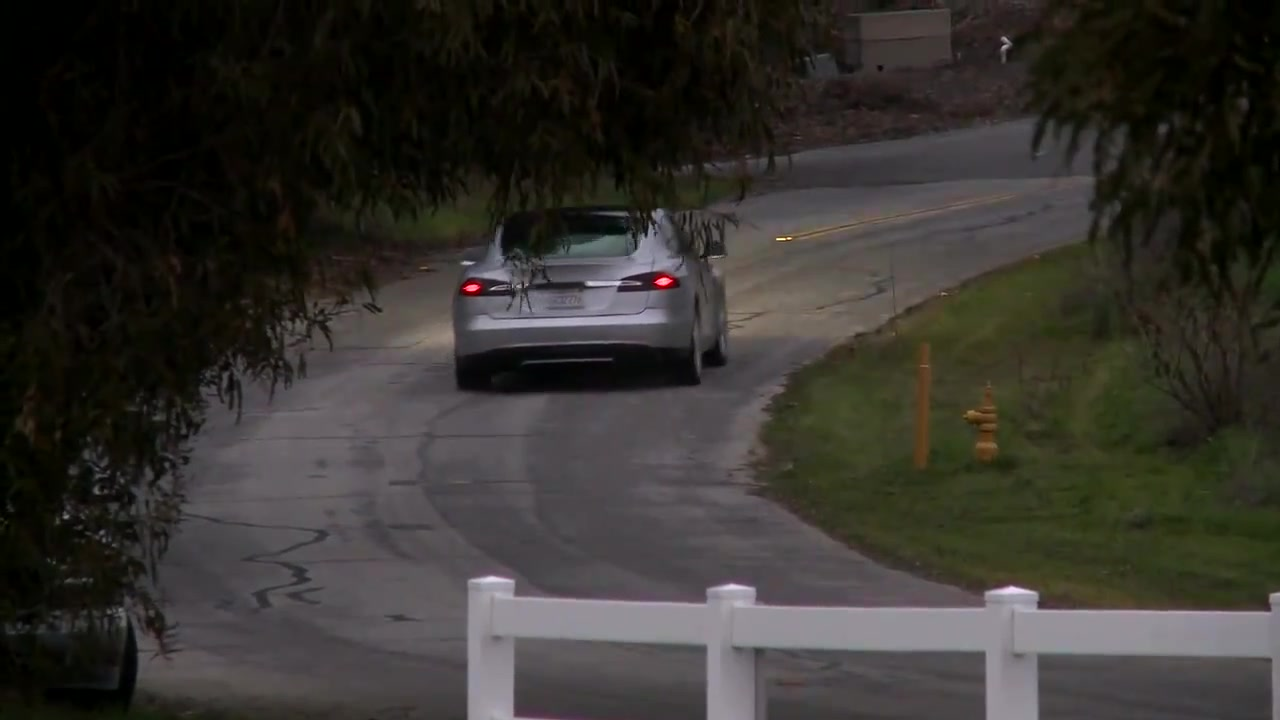car: (448, 203, 736, 384)
